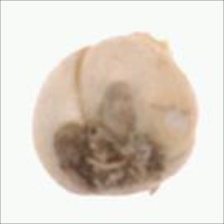L4: (32, 32, 198, 197)
